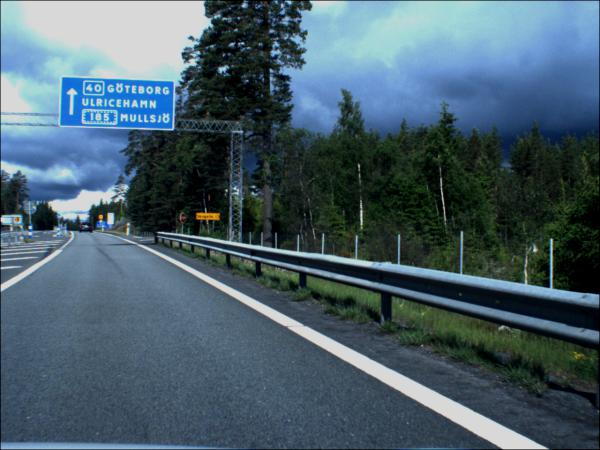100_SIGN: (100, 216, 105, 221), (16, 219, 21, 223)
PASS_RIGHT_SIDE: (58, 216, 62, 220)
PRIORITY_ROAD: (101, 221, 105, 225)
STOP: (182, 214, 188, 225)
